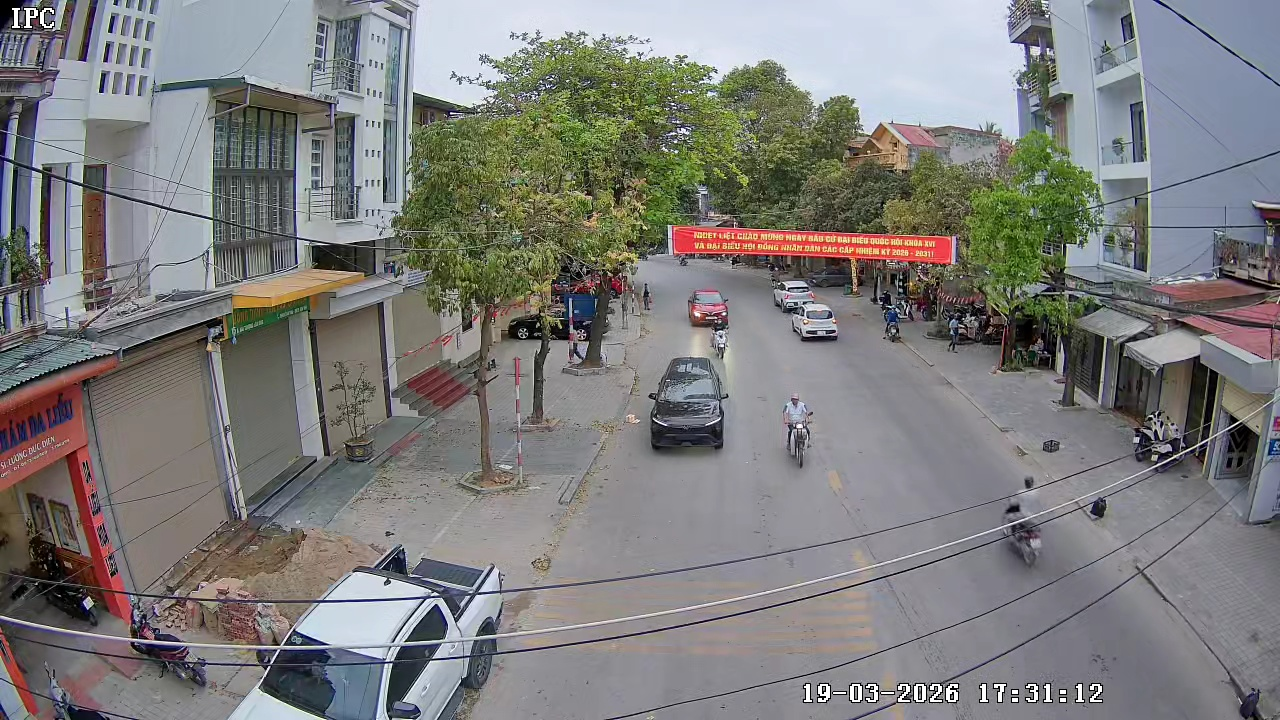car: (230, 561, 505, 719), (647, 354, 730, 453), (793, 300, 839, 342), (687, 287, 729, 328), (771, 280, 813, 312)
motorbike: (1000, 478, 1045, 568), (780, 393, 815, 468), (710, 322, 730, 358), (636, 281, 653, 315), (883, 311, 901, 342)
